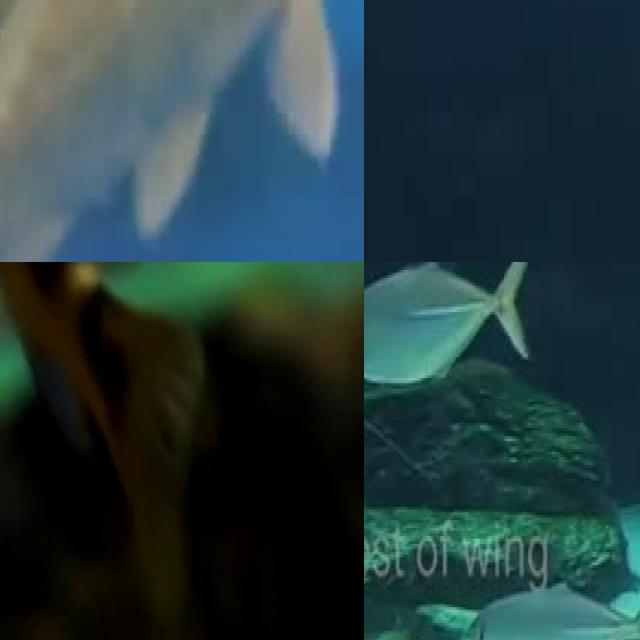fish: (0, 0, 364, 262), (364, 262, 539, 380)
